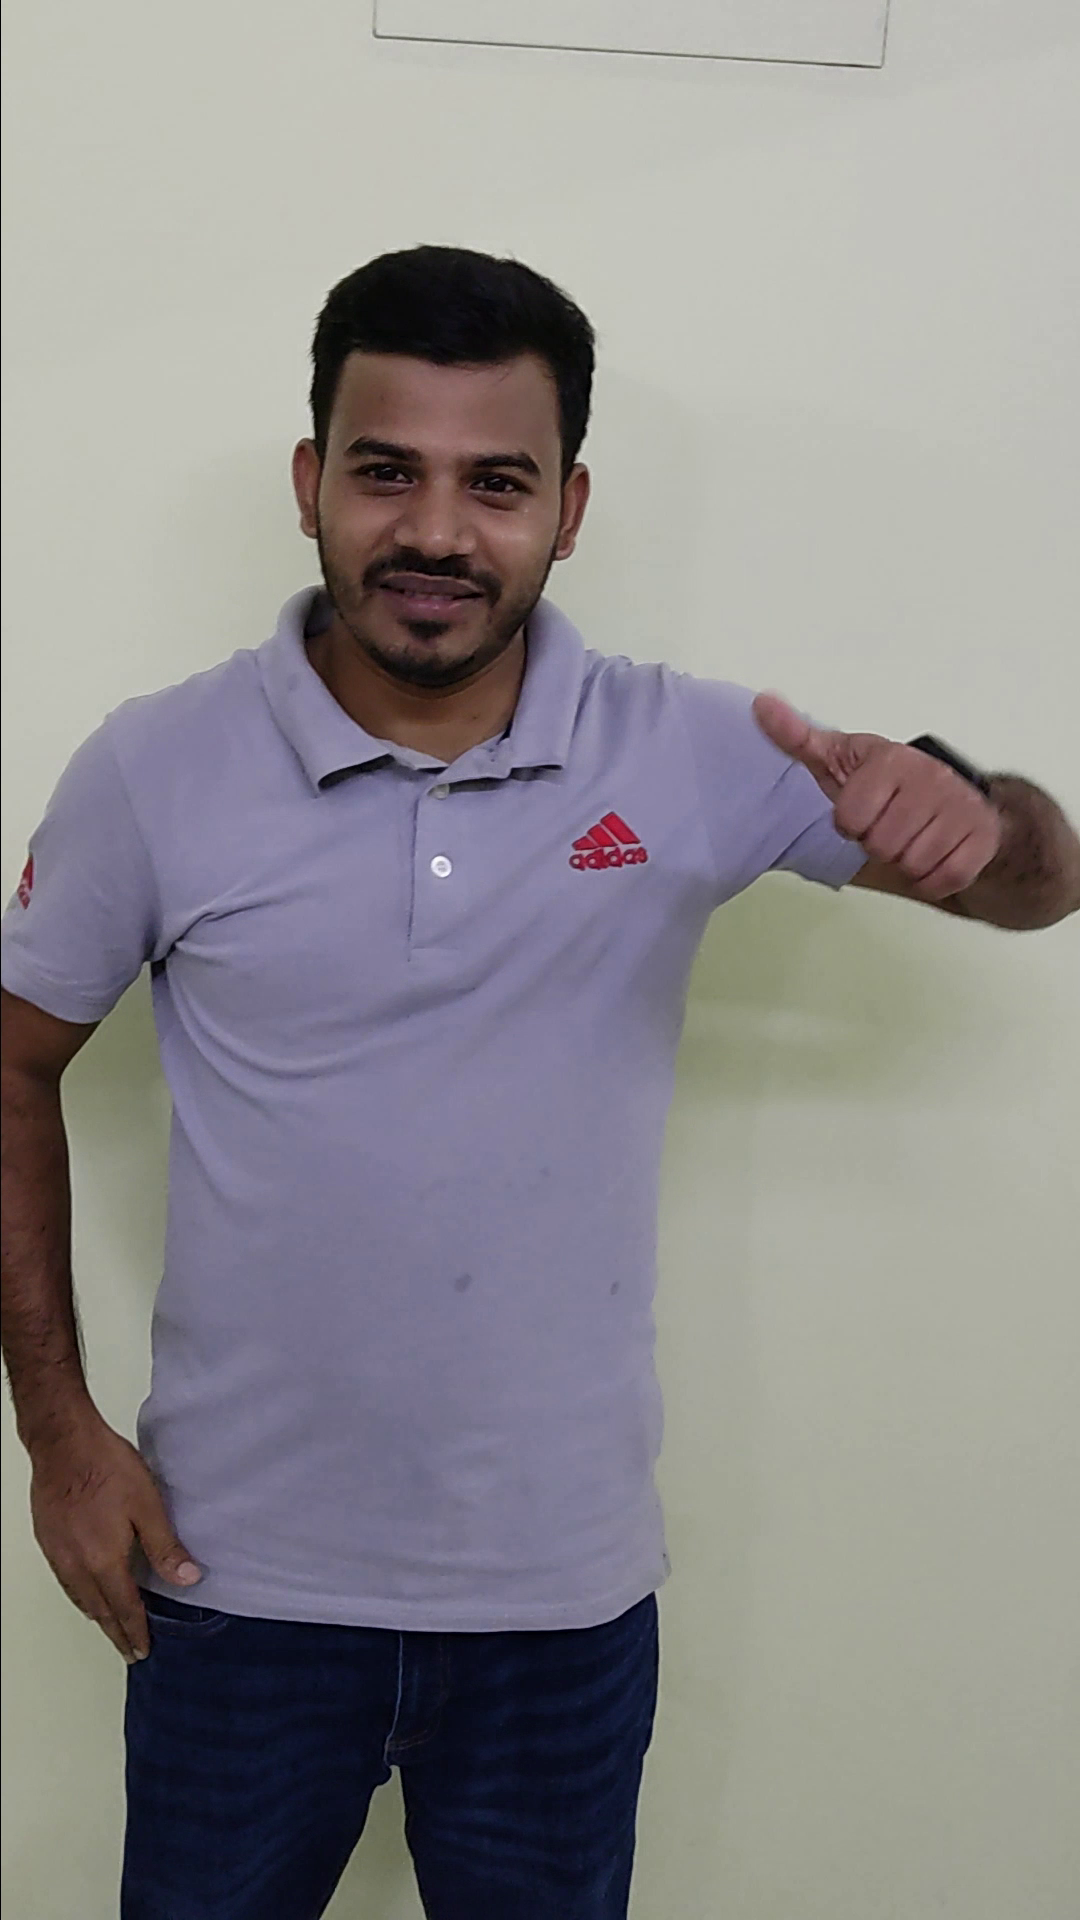Like: (744, 662, 1010, 945)
None: (11, 1393, 222, 1680)
